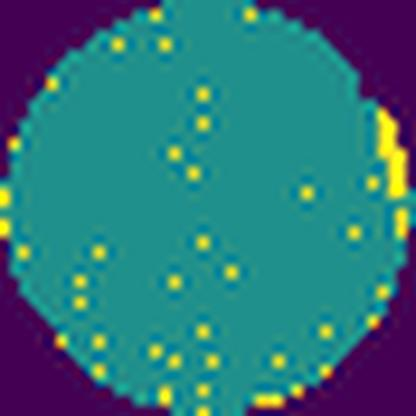Edge-Loc: (373, 107, 416, 202)
